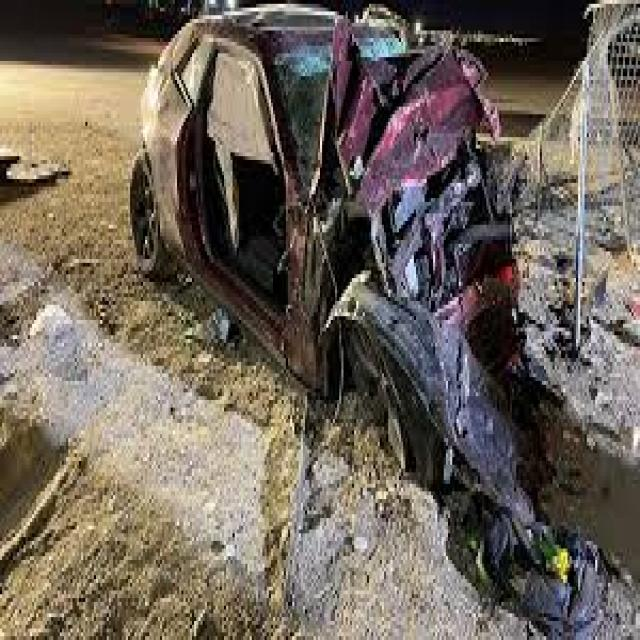accident: (132, 14, 553, 487)
